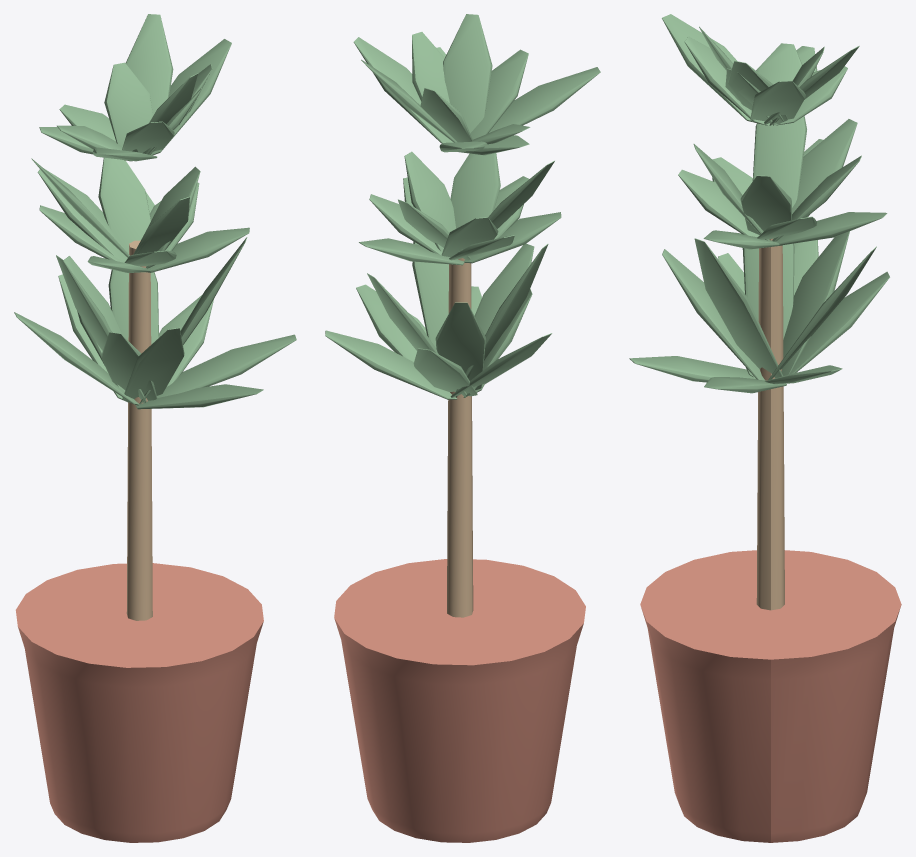
The model's file is care-home-and-day-room-potted-plant-tall-e50d9742.glb.
The picture shows the model from 3 angles, left to right: view 1: azimuth 30°, elevation 25°; view 2: azimuth 150°, elevation 25°; view 3: azimuth 270°, elevation 25°; orthographic projection. The views are drawn at different scales.
Visible parts, largest first — view 1: potted-plant-tall; view 2: potted-plant-tall; view 3: potted-plant-tall.
Part boxes in pixels (left/top/right/bottom): potted-plant-tall: left=14, top=14, right=296, bottom=842; potted-plant-tall: left=325, top=14, right=600, bottom=842; potted-plant-tall: left=629, top=14, right=901, bottom=842.
Bounding box in the file's own units: 0.4417 × 1.34 × 0.4195.
